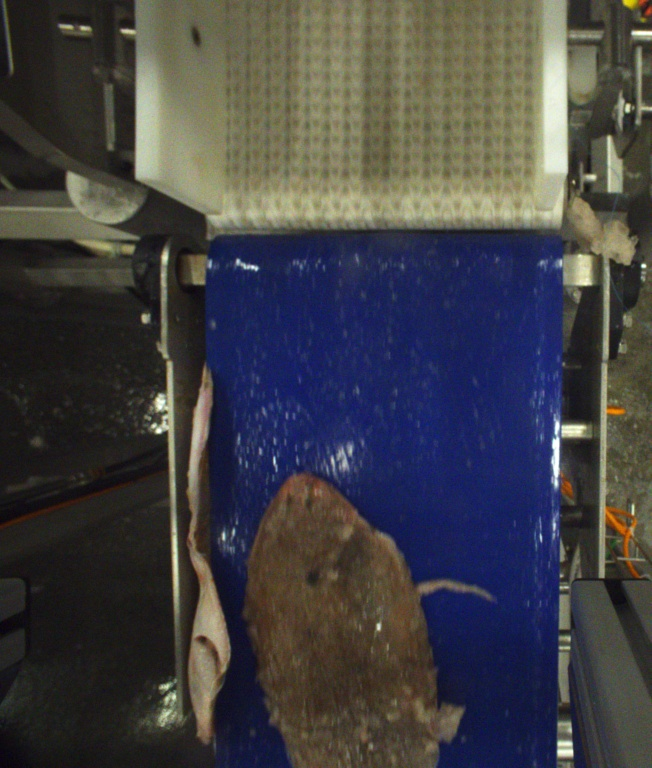SOL: (248, 470, 488, 768)
